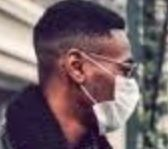with_facemask: (100, 58, 140, 130)
